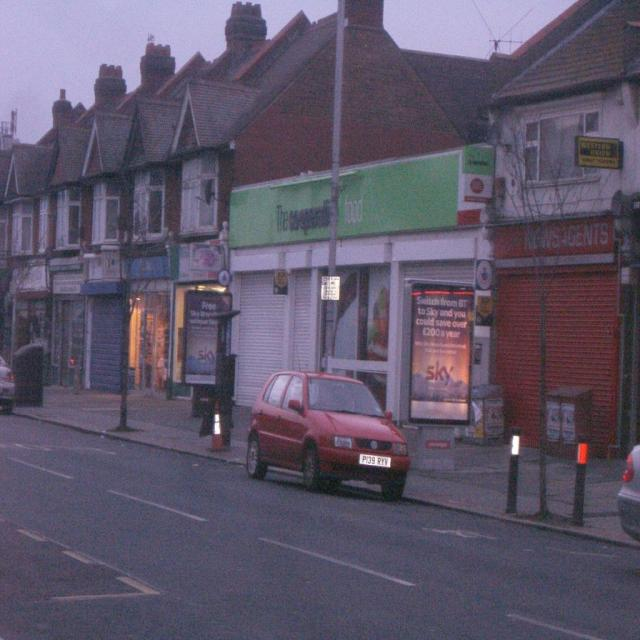car: (236, 376, 411, 492)
